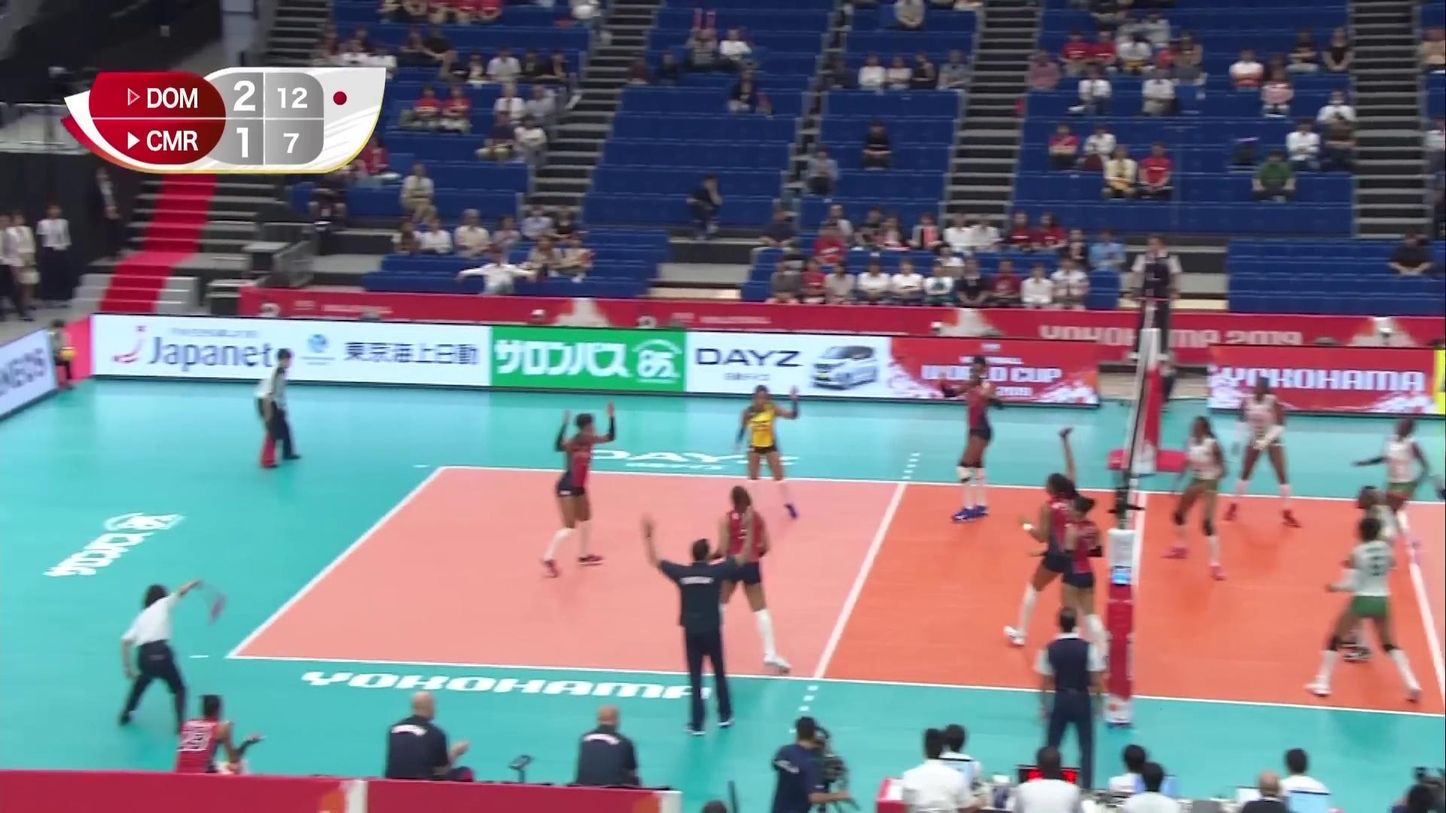player: (1010, 430, 1111, 652), (1305, 521, 1423, 702), (700, 486, 792, 672), (1351, 418, 1434, 567), (1046, 493, 1116, 669), (1225, 376, 1302, 531), (542, 413, 613, 574), (938, 358, 1003, 524), (1169, 415, 1229, 582), (1336, 485, 1392, 661), (737, 384, 805, 520)
refree: (120, 581, 196, 736), (1039, 608, 1096, 794), (252, 346, 306, 469), (1132, 235, 1179, 356)
